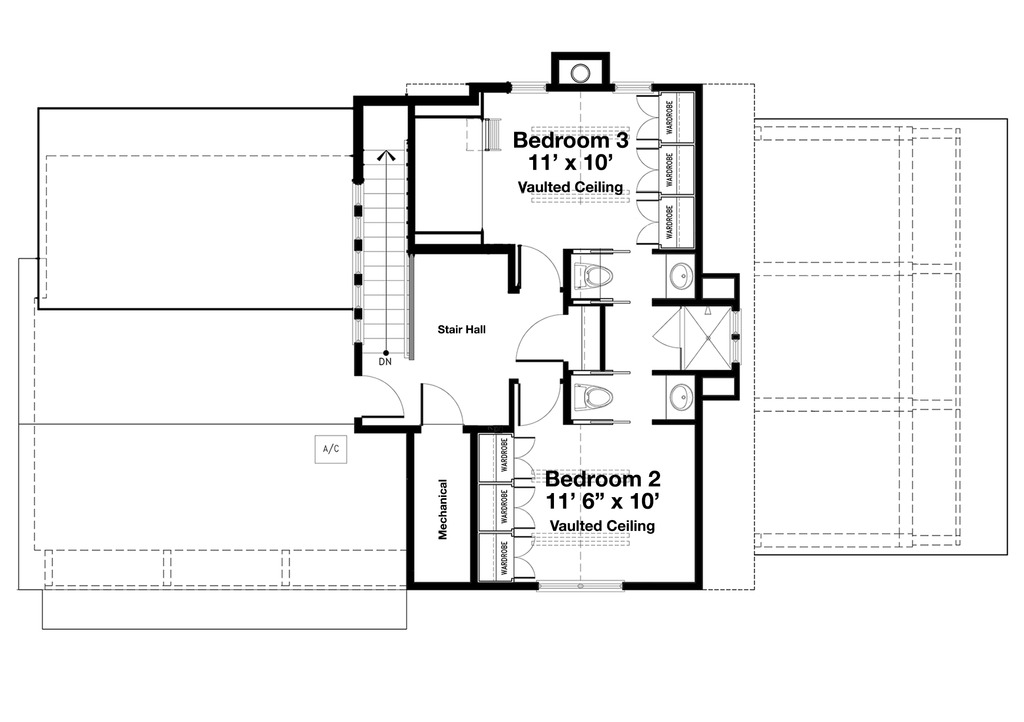door: (352, 372, 406, 424), (517, 313, 565, 367), (512, 379, 562, 426), (418, 381, 463, 429), (513, 245, 560, 287), (630, 198, 661, 248), (507, 533, 538, 581), (652, 308, 680, 352), (512, 483, 536, 534), (635, 143, 658, 196), (635, 94, 658, 143), (515, 432, 535, 481)
large_sink: (570, 377, 615, 414), (572, 259, 614, 292)
small_sink: (660, 252, 697, 301), (663, 372, 696, 421)
stairs: (362, 130, 416, 370)
windows: (536, 580, 620, 594), (609, 78, 655, 97), (729, 308, 742, 367), (506, 81, 544, 93)
